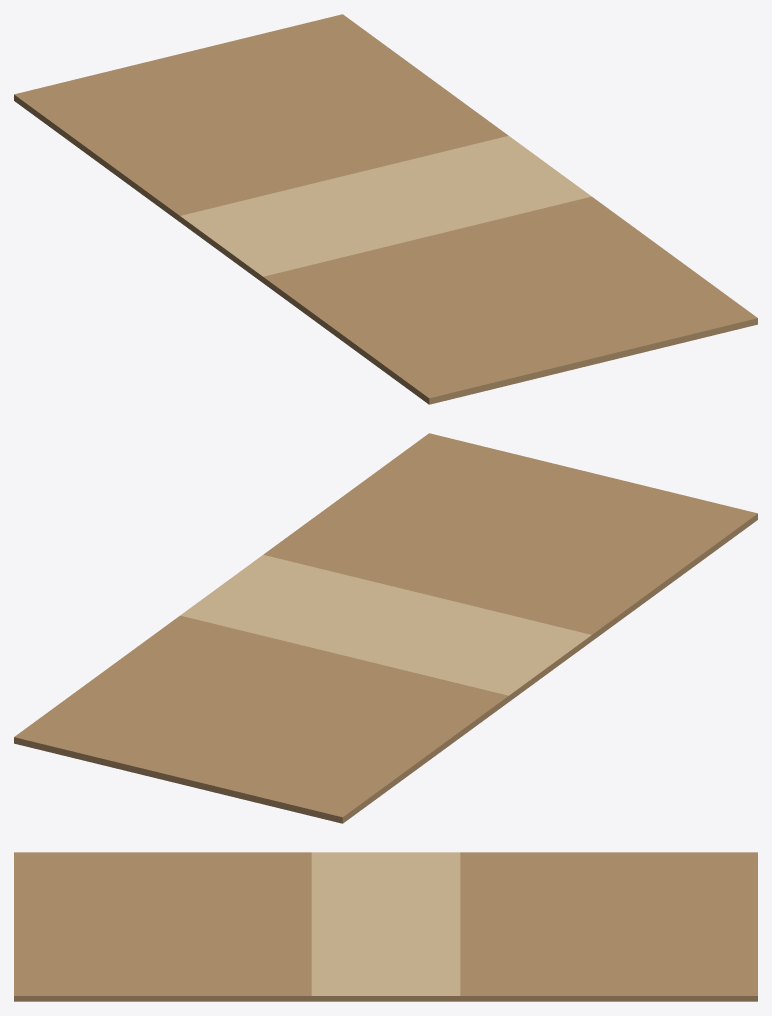
File: ZO_Floor64.glb
The picture shows the model from 3 angles, top to bottom: view 1: azimuth 30°, elevation 25°; view 2: azimuth 150°, elevation 25°; view 3: azimuth 270°, elevation 25°; orthographic projection. The views are drawn at different scales.
Parts seen in each view (by area): view 1: ZO_Floor64; view 2: ZO_Floor64; view 3: ZO_Floor64.
Part boxes in pixels (x1=…): ZO_Floor64: x1=14, y1=14, x2=757, y2=404; ZO_Floor64: x1=14, y1=433, x2=757, y2=823; ZO_Floor64: x1=14, y1=852, x2=757, y2=1001.
Size of the model in its own units: 64 by 1.2 by 140.
Materials: 1 (1 with a texture image).
